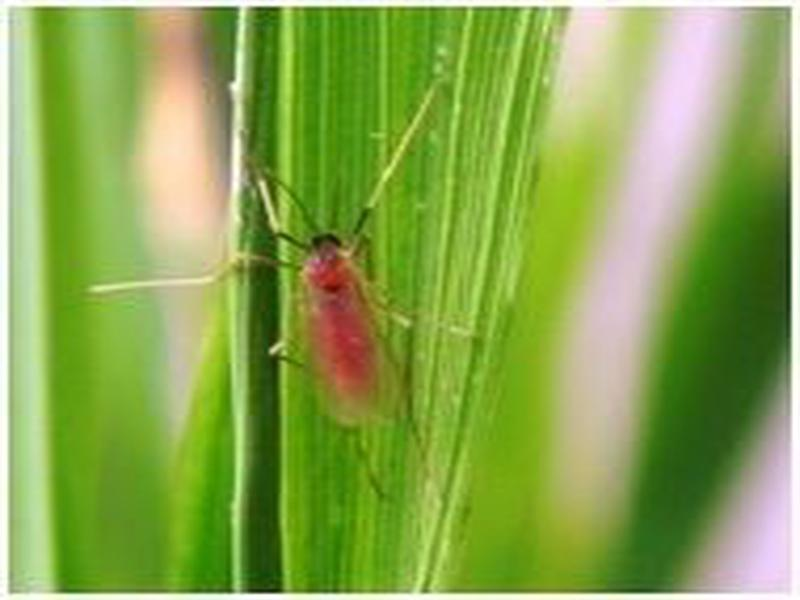Gall_midge: (248, 206, 432, 450)
